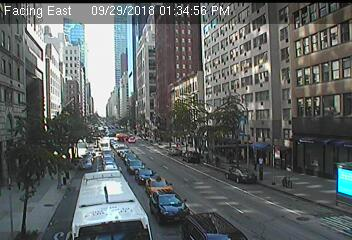car: (71, 171, 151, 240), (183, 212, 247, 240), (149, 190, 188, 222), (225, 166, 257, 185), (147, 176, 173, 196), (134, 168, 156, 184), (126, 158, 145, 173), (102, 164, 119, 179), (181, 151, 200, 164), (121, 152, 139, 163), (79, 158, 92, 170), (102, 154, 114, 166), (166, 148, 180, 156), (82, 153, 93, 163)
